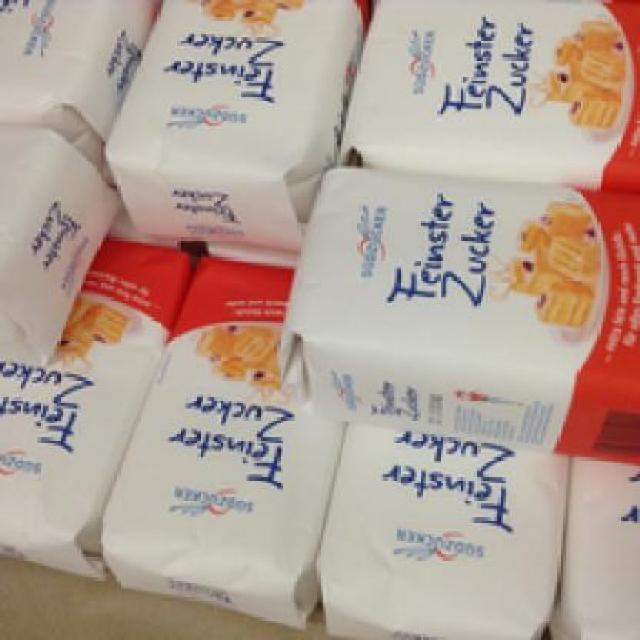Sugar: (277, 160, 637, 463), (97, 246, 326, 620), (103, 0, 357, 237), (332, 0, 638, 189), (314, 414, 570, 637)
